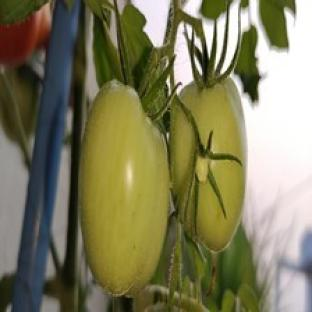Tomato: (80, 81, 169, 295), (170, 78, 246, 250), (0, 5, 50, 66), (37, 3, 51, 48)
